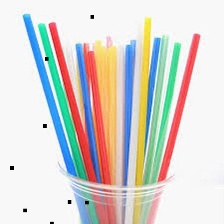drinking_straw: (17, 10, 90, 223), (150, 28, 204, 224), (132, 13, 155, 224)
glass: (50, 149, 181, 223)
